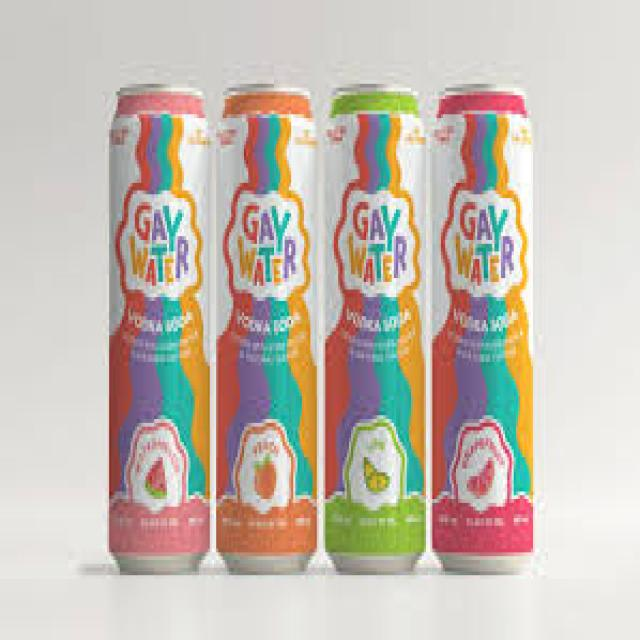Cans: (103, 68, 218, 583), (321, 72, 432, 579), (432, 76, 540, 579), (216, 80, 321, 579)
